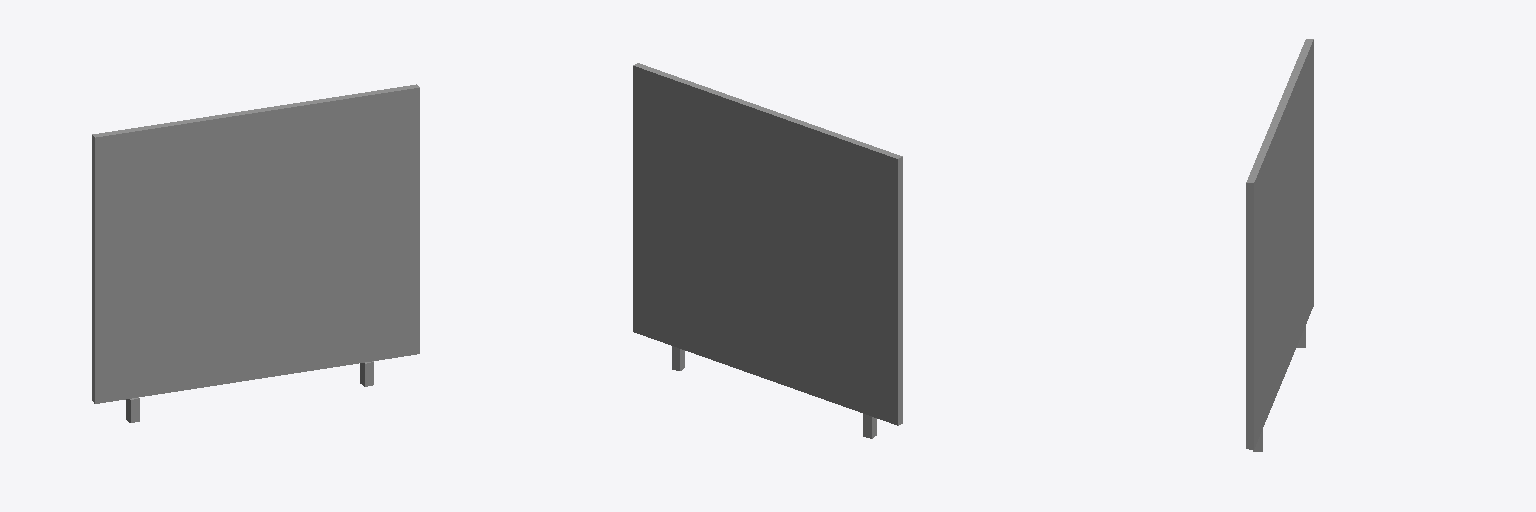
The model's file is shortSign.obj.
3 renders of one model, left to right at view 1: azimuth 30°, elevation 25°; view 2: azimuth 150°, elevation 25°; view 3: azimuth 270°, elevation 25°, orthographic.
Visible parts, largest first — view 1: Cube.001; view 2: Cube.001; view 3: Cube.001.
Part boxes in pixels (x1,y1,x2,y2): Cube.001: (92,84,419,422); Cube.001: (633,63,902,438); Cube.001: (1246,39,1313,451).
Bounding box in the file's own units: 19.34 × 18.1 × 3.82.